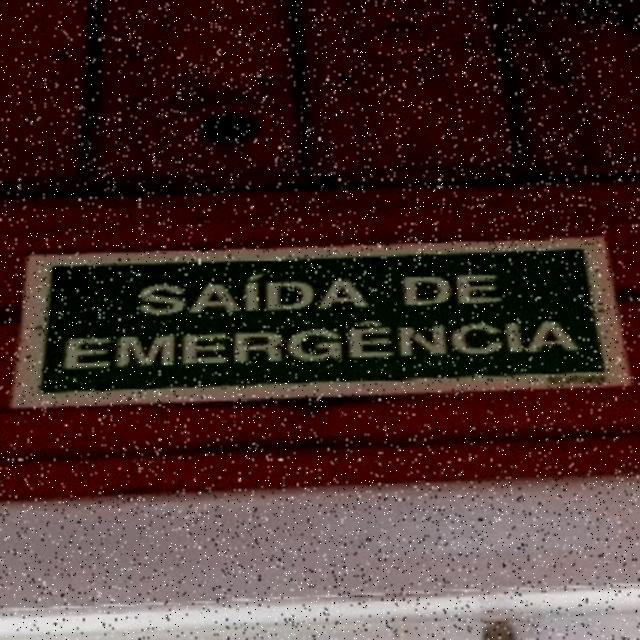emergency_exit: (9, 234, 632, 409)
